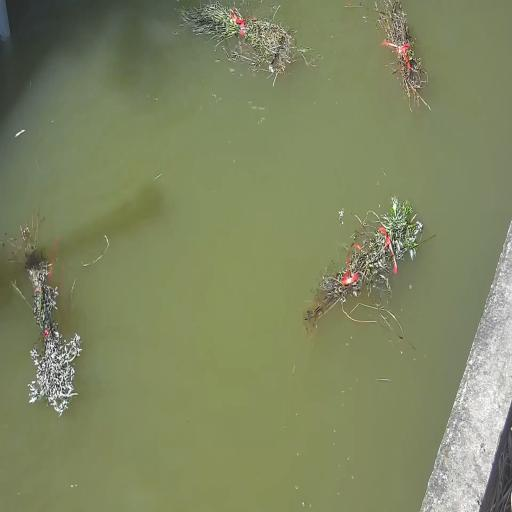twig: (2, 209, 90, 414), (303, 193, 425, 338), (176, 1, 306, 85), (374, 0, 431, 112), (1, 208, 49, 274)
